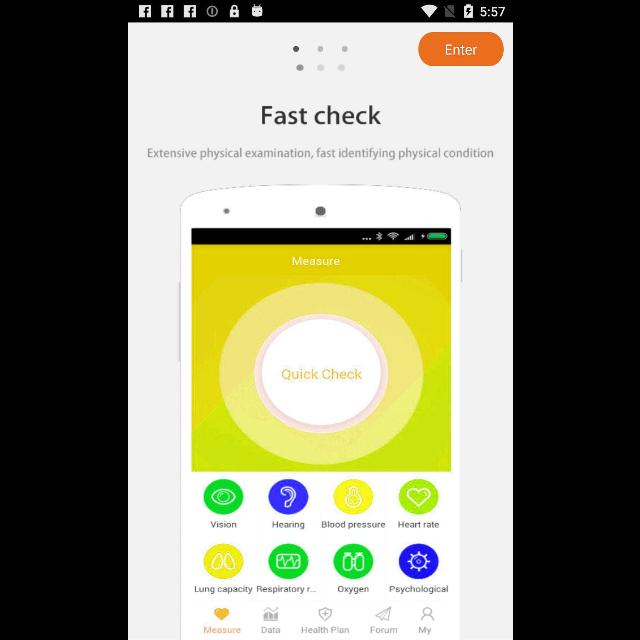image: (178, 184, 462, 640)
pageindicator: (296, 64, 344, 72), (292, 46, 348, 52)
text: (147, 148, 493, 160), (262, 106, 381, 124)
textbutton: (418, 32, 502, 66)
uppertaskbar: (128, 1, 512, 23)
